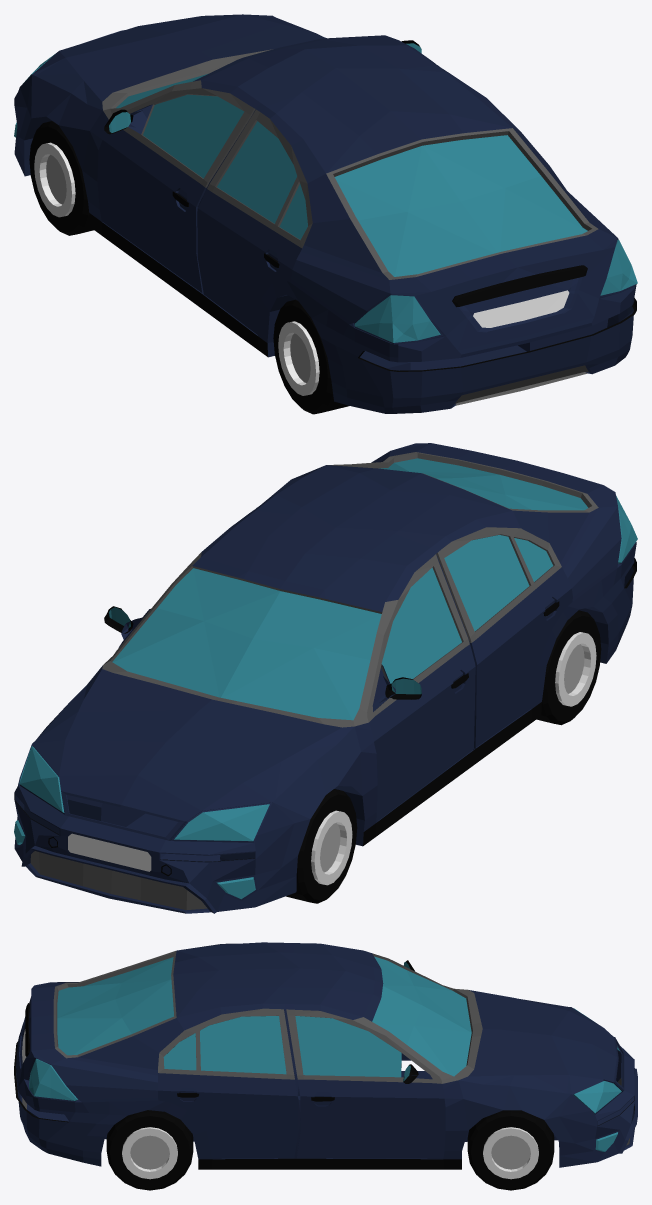
The model's file is car.glb.
The picture shows the model from 3 angles, top to bottom: view 1: azimuth 30°, elevation 25°; view 2: azimuth 150°, elevation 25°; view 3: azimuth 270°, elevation 25°; orthographic projection. The views are drawn at different scales.
Bounding box in the file's own units: 2.41 × 1.71 × 5.56.
